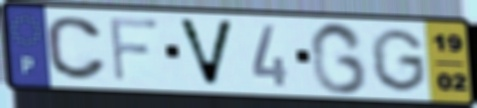4: (250, 23, 290, 88)
C: (43, 14, 110, 83)
F: (106, 15, 162, 84)
G: (308, 20, 371, 97), (367, 26, 429, 94)
V: (174, 16, 238, 90)
